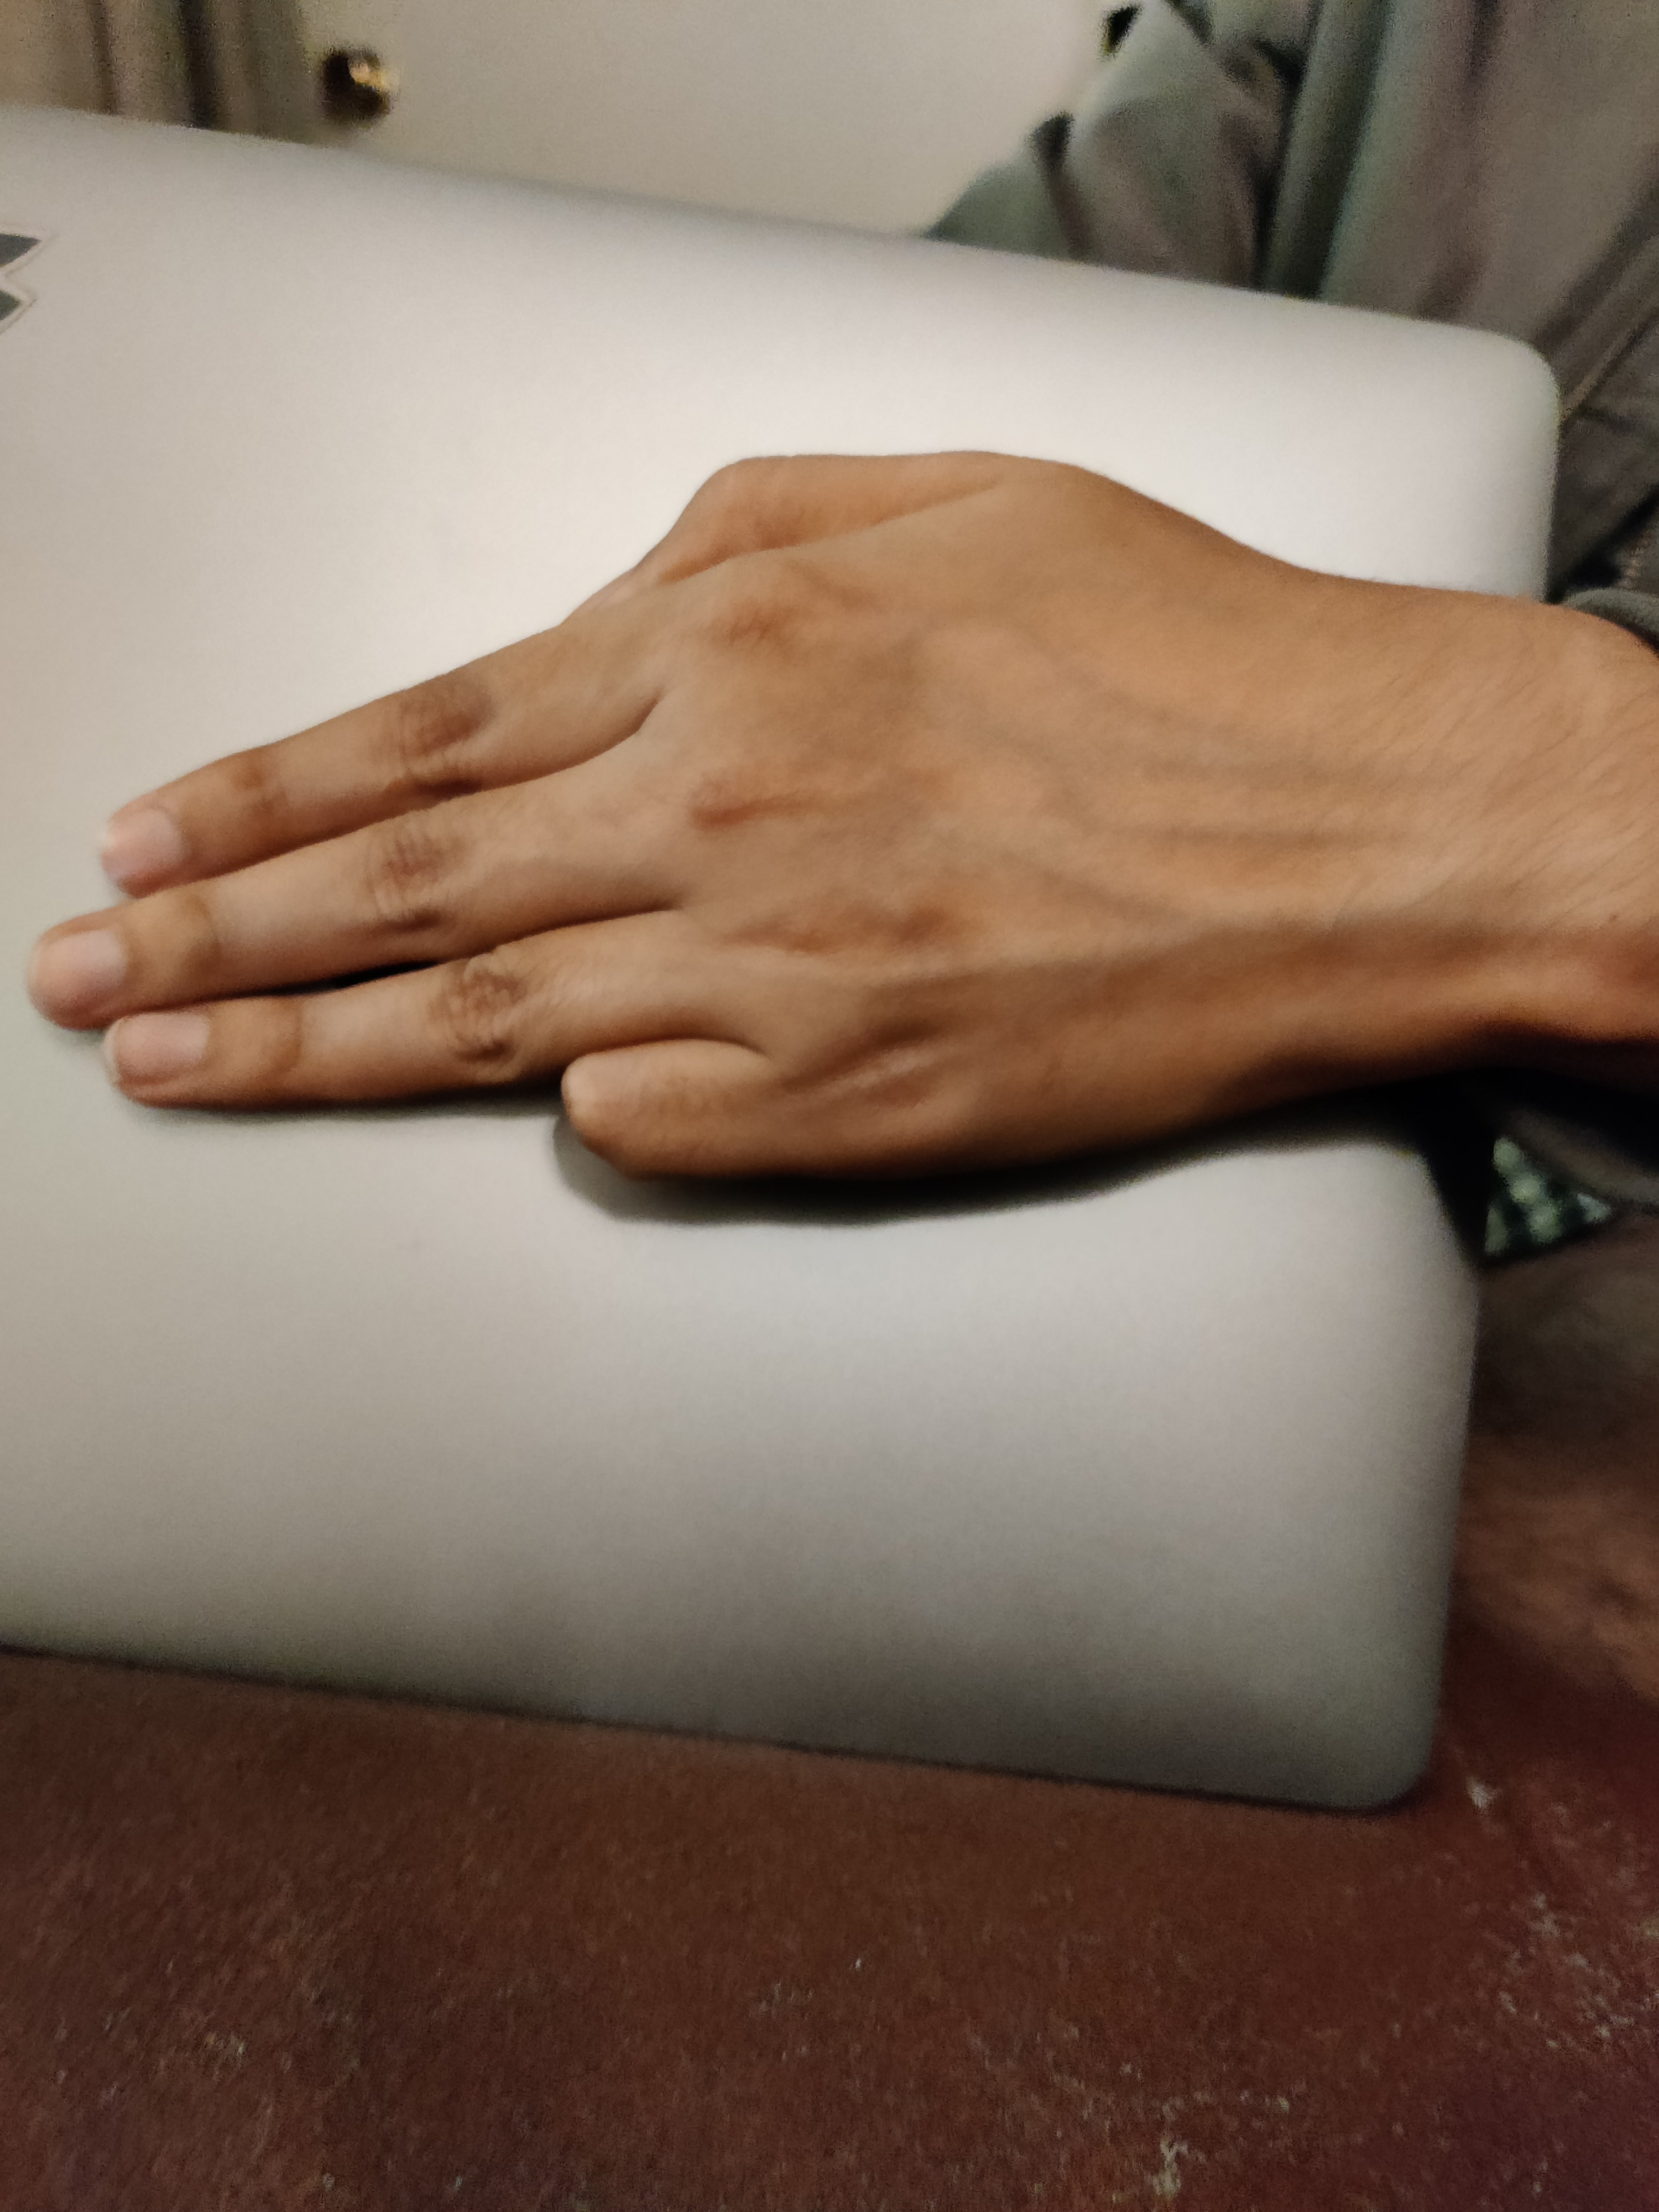right: (30, 359, 1624, 1426)
